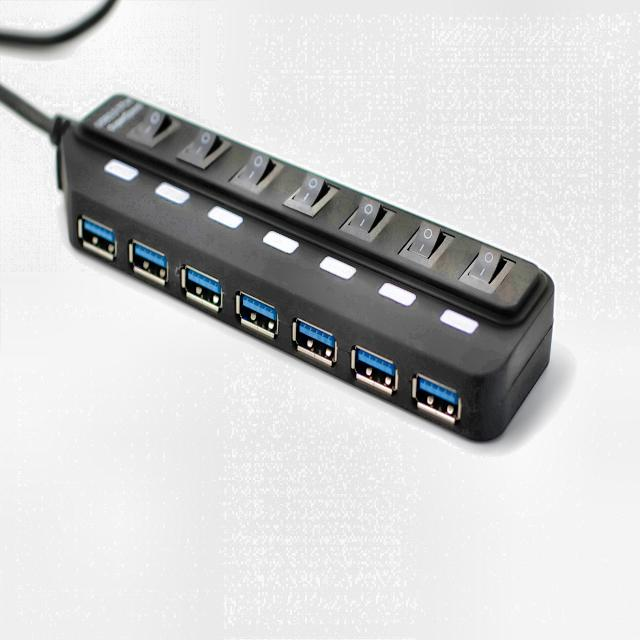HUB: (0, 86, 554, 442)
